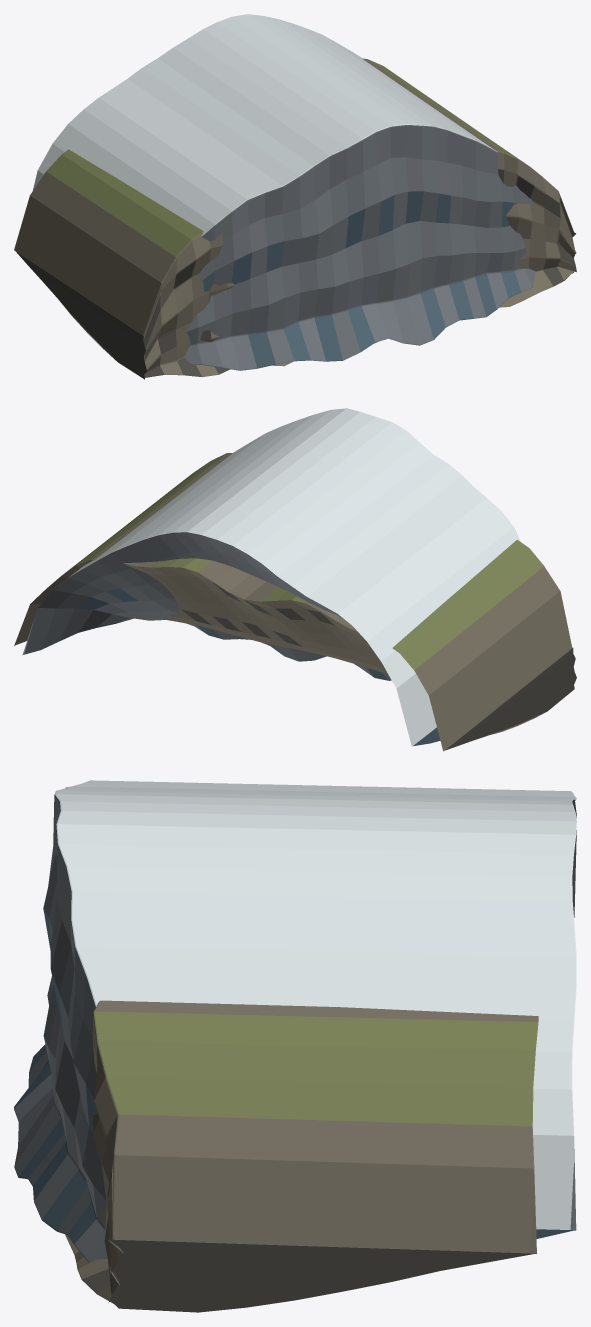
Rendered from regional_geology_kit_v1.glb.
3 renders of one model, top to bottom at view 1: azimuth 30°, elevation 25°; view 2: azimuth 150°, elevation 25°; view 3: azimuth 270°, elevation 25°, orthographic. The views are drawn at different scales.
Parts seen in each view (by area): view 1: GlacialCirqueWall, StratifiedMountainWall; view 2: GlacialCirqueWall, StratifiedMountainWall; view 3: GlacialCirqueWall, StratifiedMountainWall.
Part boxes in pixels (bbox=[...]): GlacialCirqueWall: bbox=[33, 14, 535, 370]; StratifiedMountainWall: bbox=[14, 58, 576, 379]; GlacialCirqueWall: bbox=[22, 408, 520, 746]; StratifiedMountainWall: bbox=[14, 453, 576, 751]; GlacialCirqueWall: bbox=[14, 780, 576, 1261]; StratifiedMountainWall: bbox=[65, 1000, 538, 1312].
Bounding box in the file's own units: 84.33 × 40.96 × 58.72.
